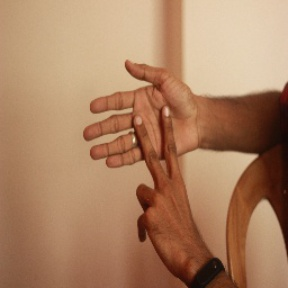N: (77, 56, 208, 222)
